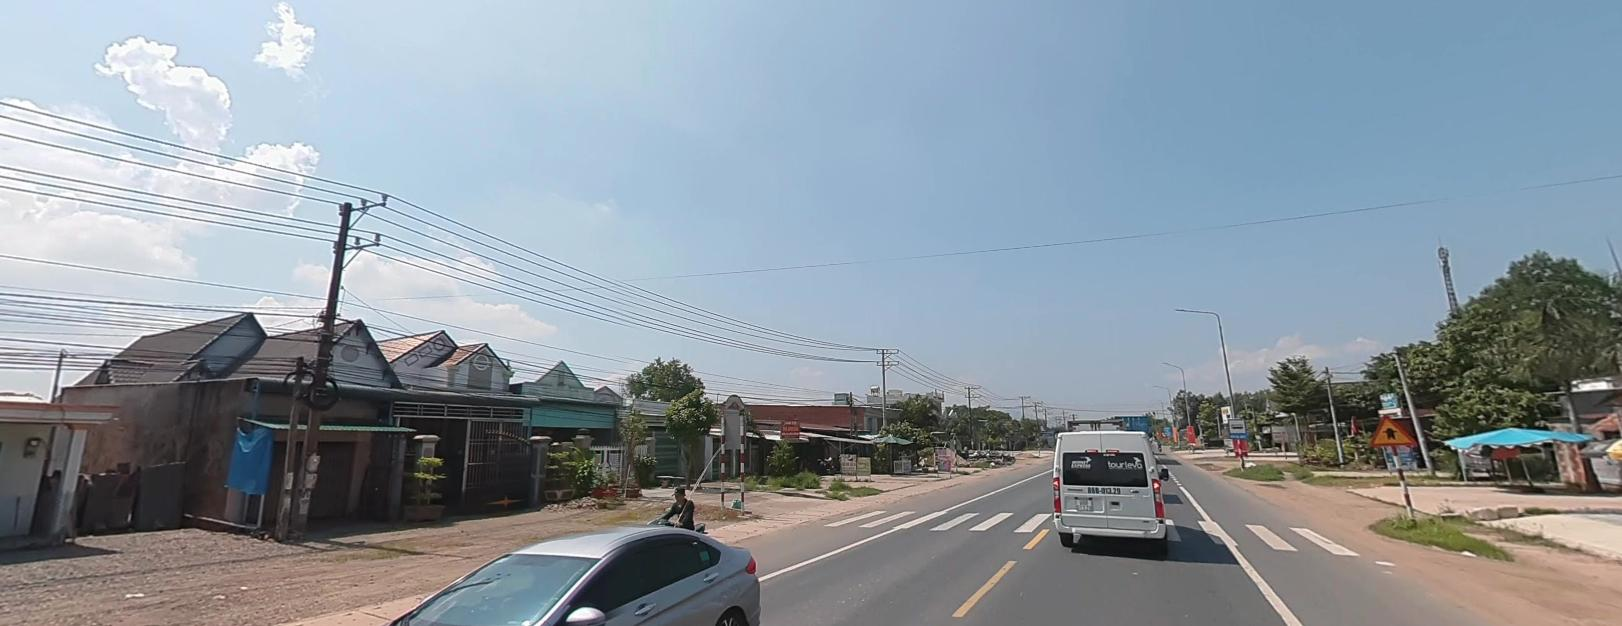Nguy hiem: (1370, 412, 1416, 443)
